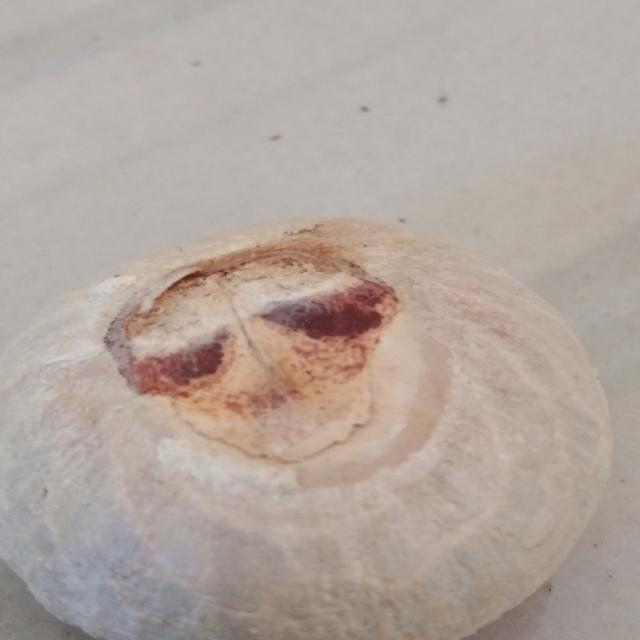phatora: (0, 207, 632, 640)
